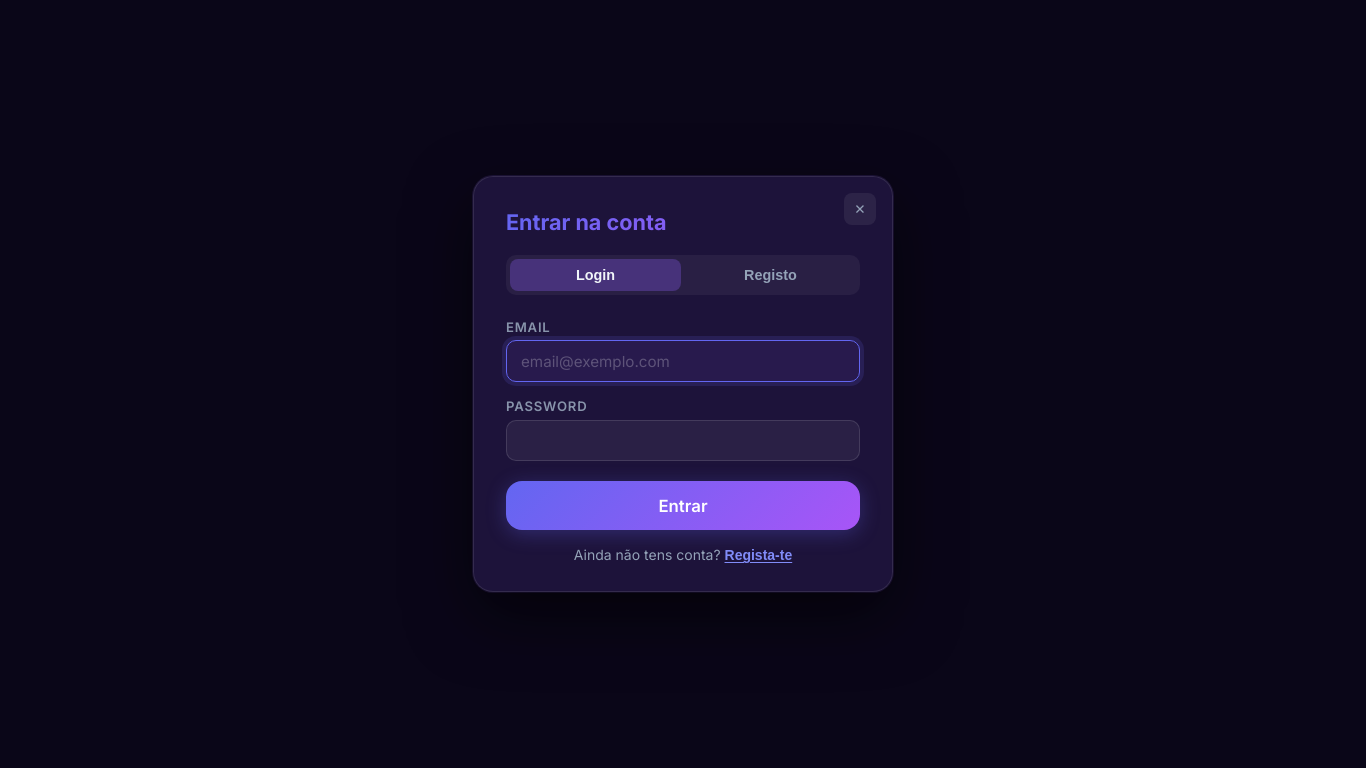
Scenario: AuthModal › shows API error when login fails
Type "fail@test.com" into the field labelled "Email" at coordinates (683, 361), box 506,340 -> 860,382
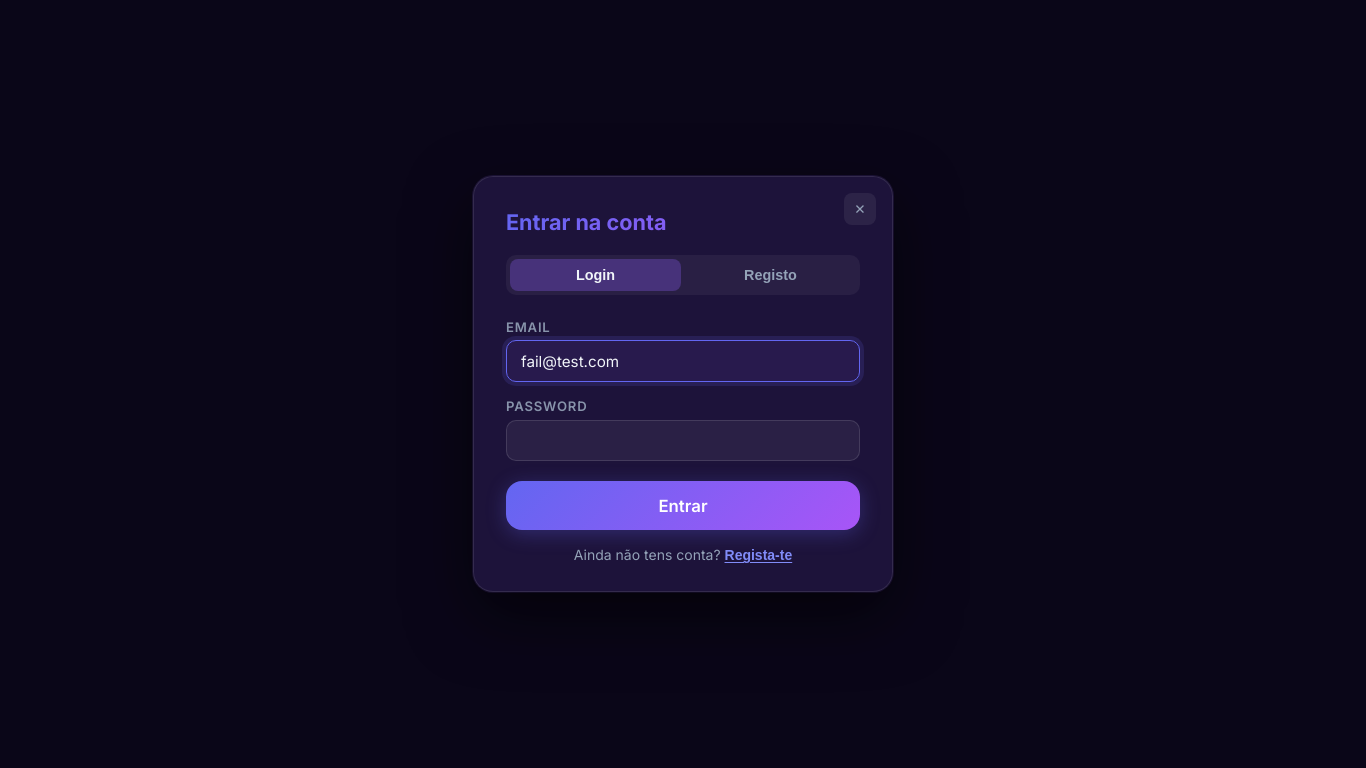
Type "wrongpass" into the password field labelled "Password" at coordinates (683, 441), box 506,420 -> 860,462
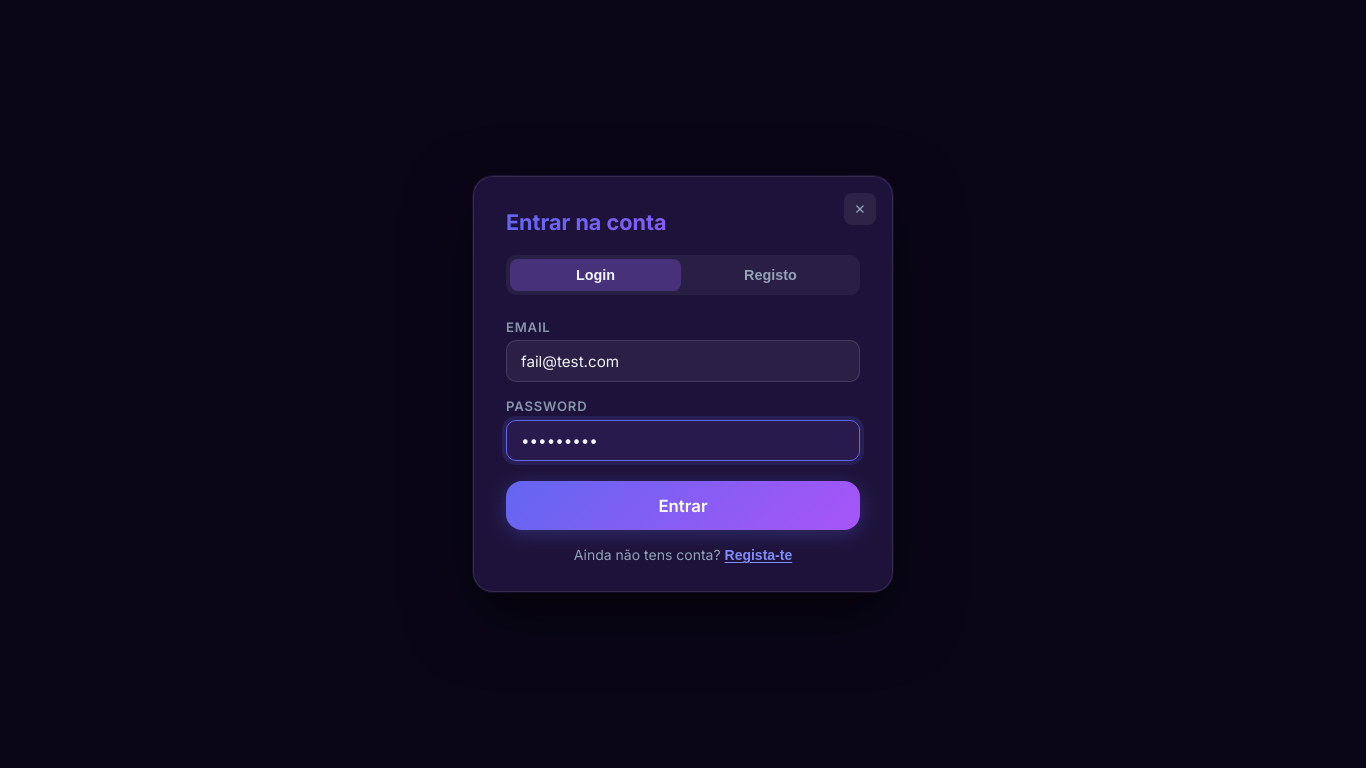
Click the button "Entrar" at coordinates (683, 506), box 506,482 -> 860,530
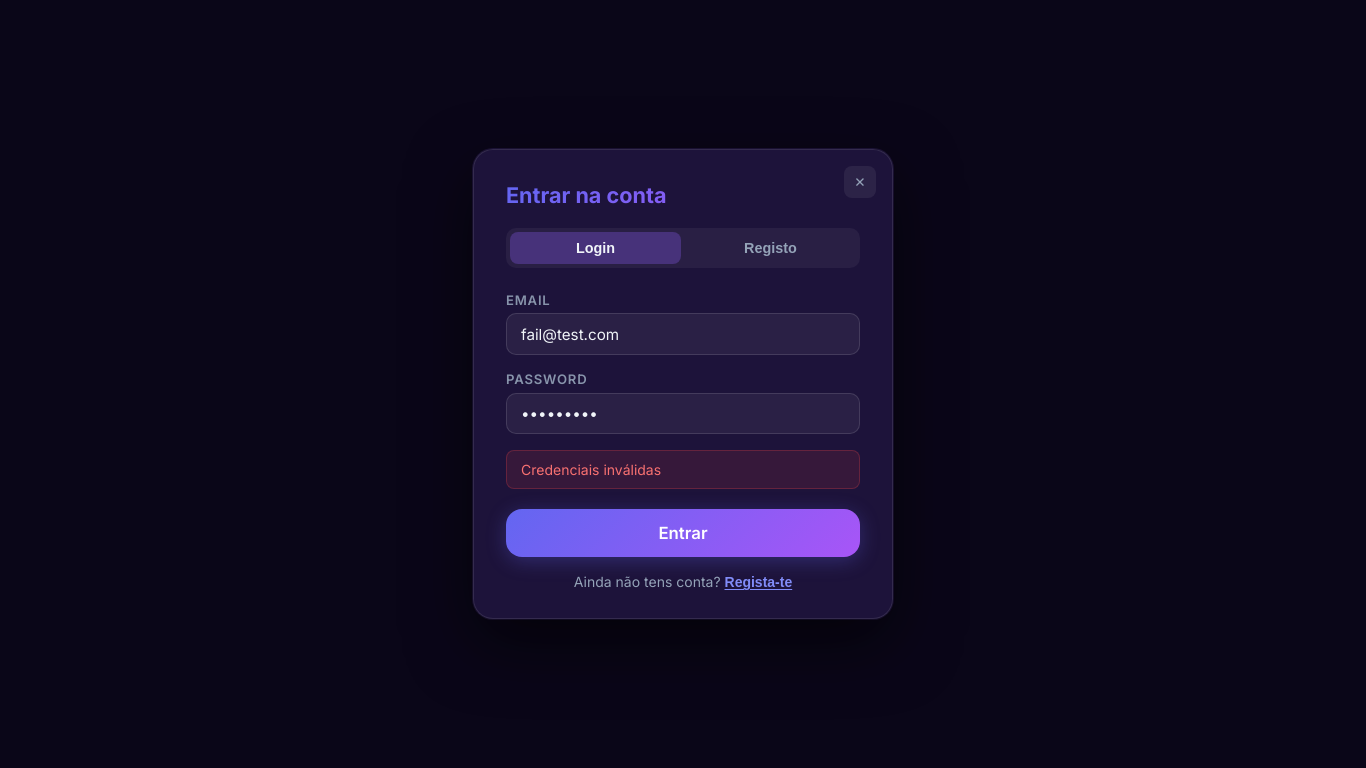
Check: the message reads "Credenciais inválidas", box 521,461 -> 661,478
